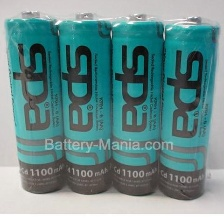battery: (155, 11, 222, 202), (2, 7, 69, 198), (106, 11, 167, 198), (56, 10, 113, 197)
